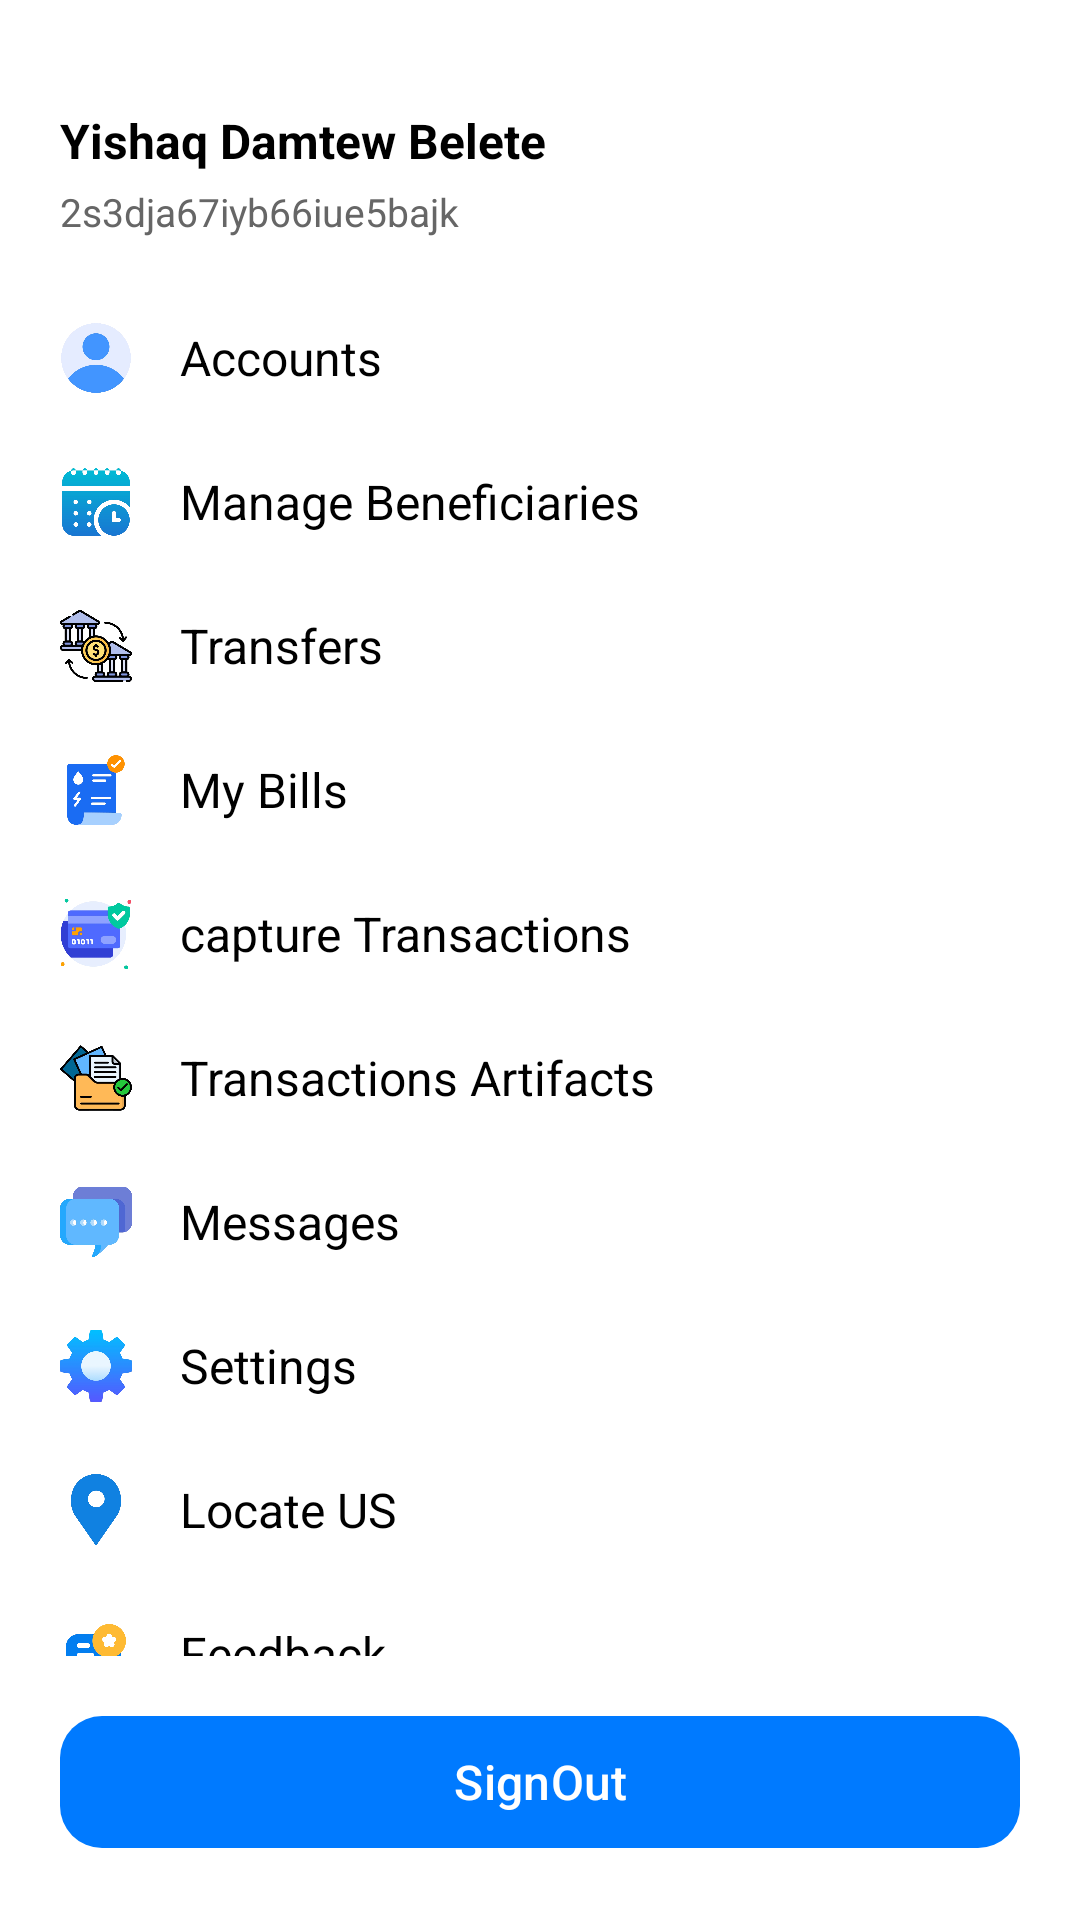

Icon click points for this 1080w x 1920h phone screenshot, format (x=x, y=y):
location: (x=96, y=1509)
meessages: (x=96, y=1222)
